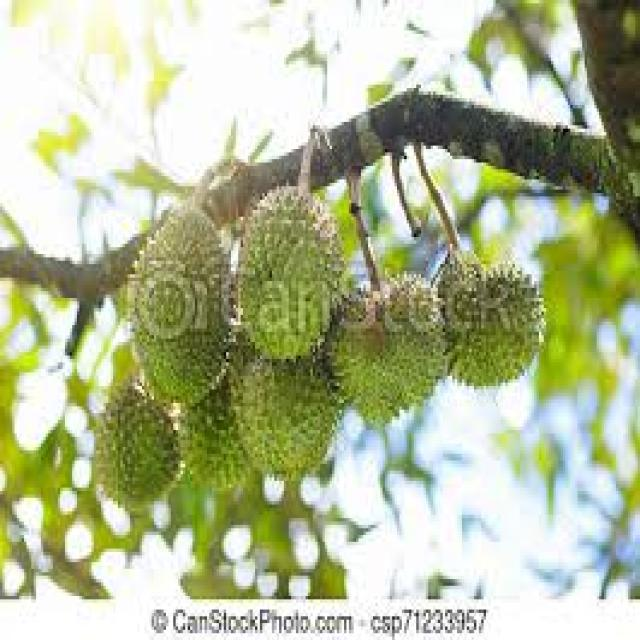immature: (127, 198, 238, 414), (325, 268, 450, 428), (237, 182, 346, 364), (227, 329, 336, 483), (434, 243, 548, 390), (93, 367, 187, 525)
